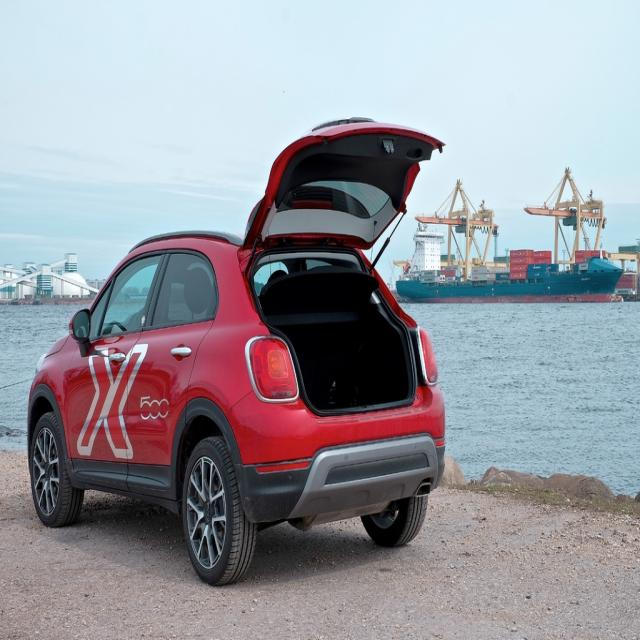car: (26, 153, 454, 581)
